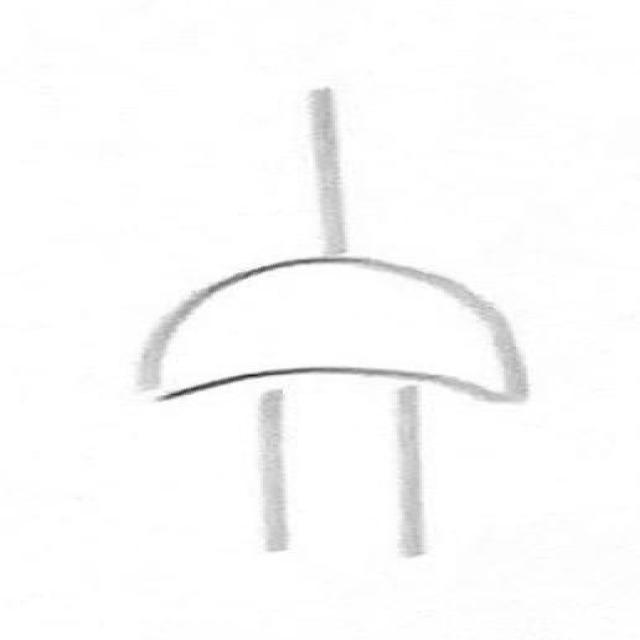OR: (88, 233, 587, 420)
